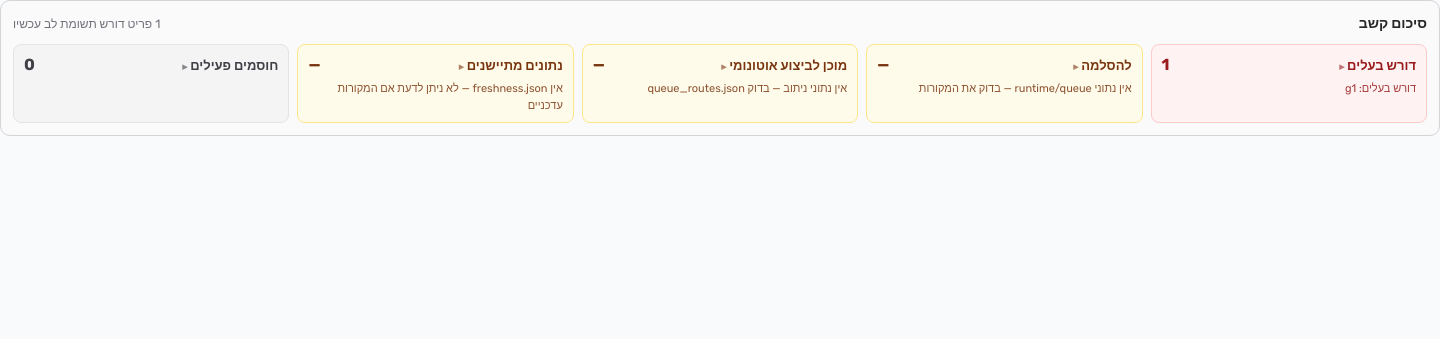
it: <AttentionSummaryCard> — tap-to-expand › clicking an expanded cell collapses it again
This screenshot has width=1440, height=339.
Click the button with test id "attention-summary-owner_required-toggle" at (1289, 75), box [1162,53,1416,98]
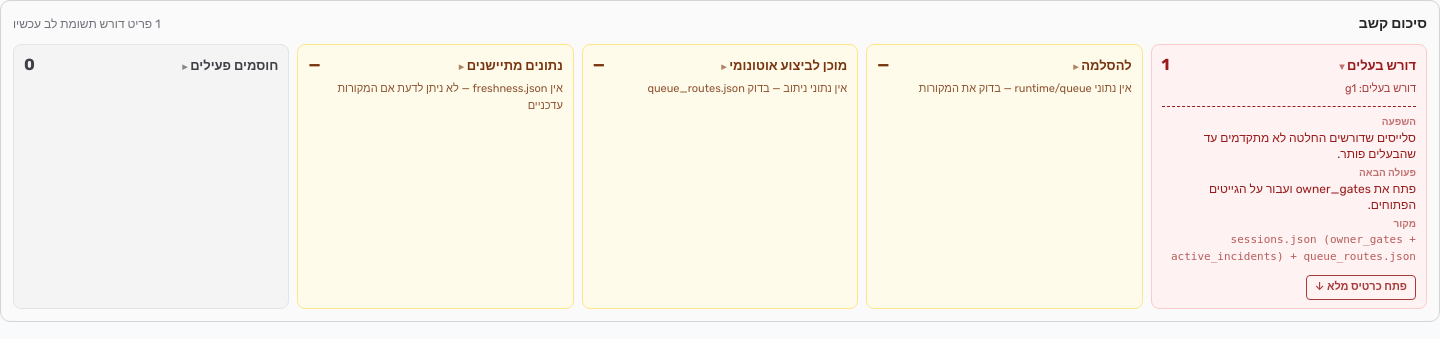
Check: the element with test id "attention-summary-owner_required-details" is shown, box [1162,106,1416,300]
Click the button with test id "attention-summary-owner_required-toggle" at (1289, 75), box [1162,53,1416,98]
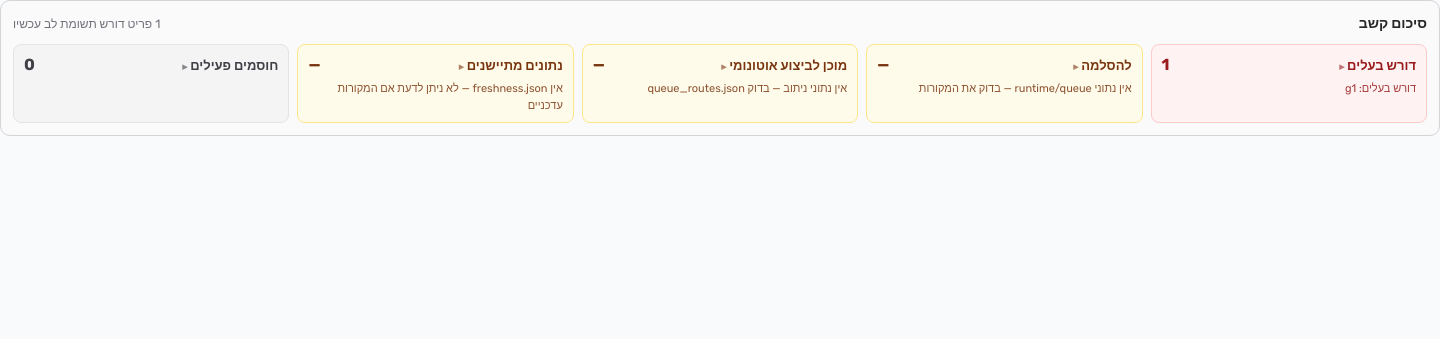
Check: the element with test id "attention-summary-owner_required-details" is gone
